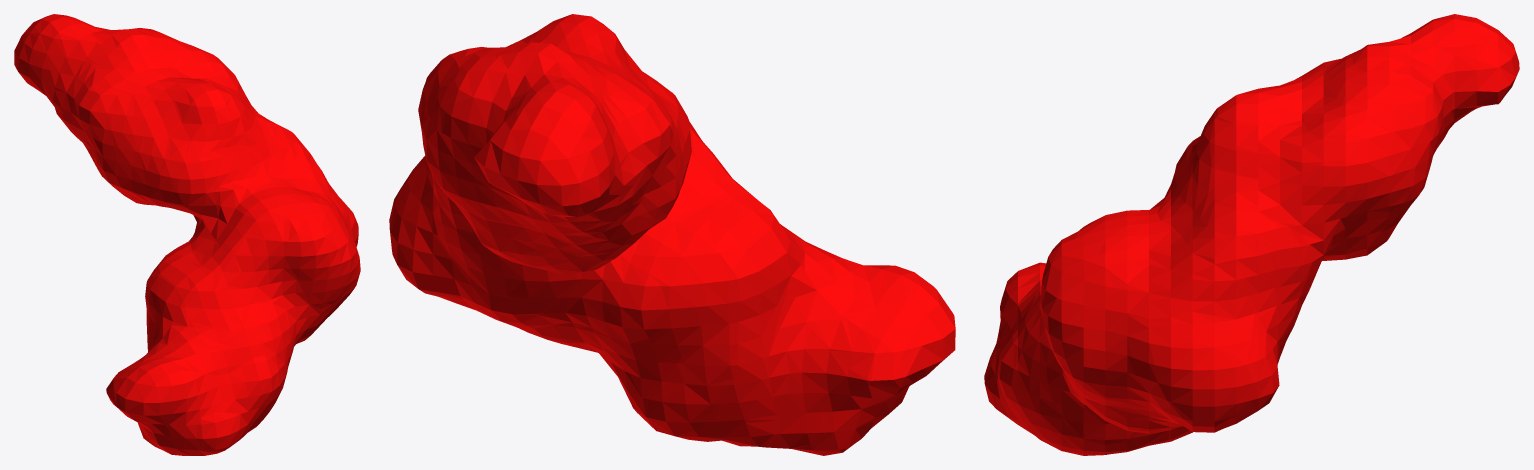
The model's file is yeiP_coarse.dae.
3 renders of one model, left to right at view 1: azimuth 30°, elevation 25°; view 2: azimuth 150°, elevation 25°; view 3: azimuth 270°, elevation 25°, orthographic. The views are drawn at different scales.
Parts seen in each view (by area): view 1: yeiP; view 2: yeiP; view 3: yeiP.
Boxes of the visible parts, <box> form: yeiP: <box>14,14,360,455</box>; yeiP: <box>389,14,955,455</box>; yeiP: <box>984,14,1519,455</box>.
Size of the model in its own units: 53.76 by 56.96 by 65.88.
